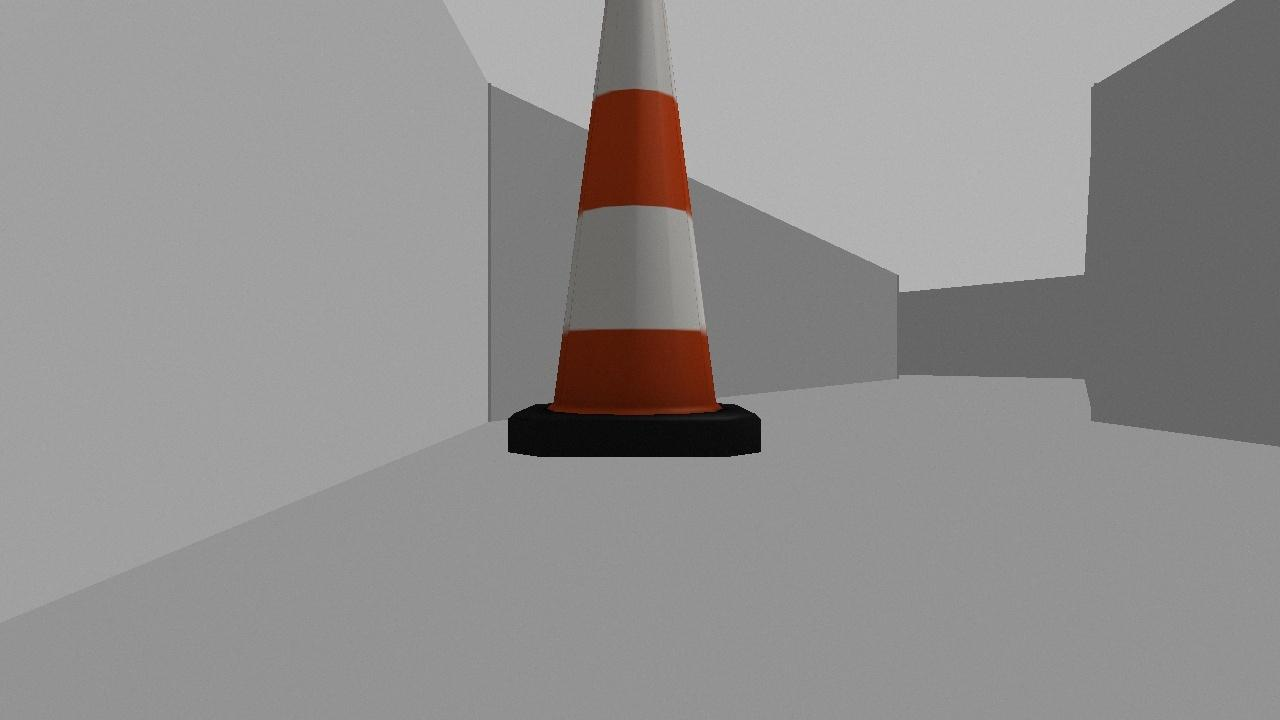cone_barrel: (488, 0, 783, 466)
